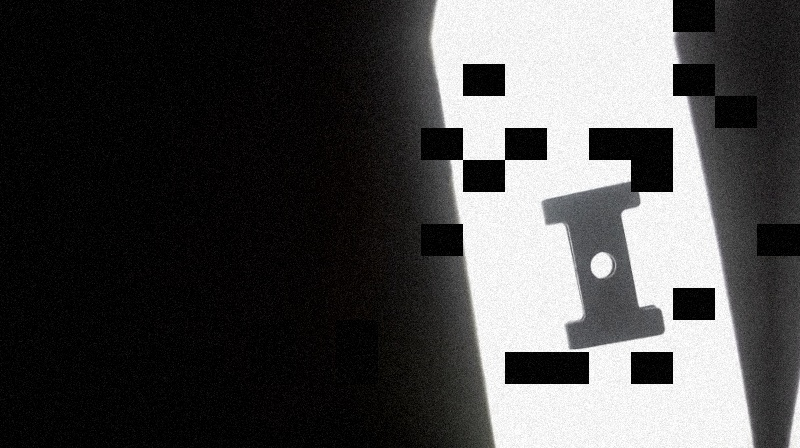O002: (540, 177, 669, 353)
